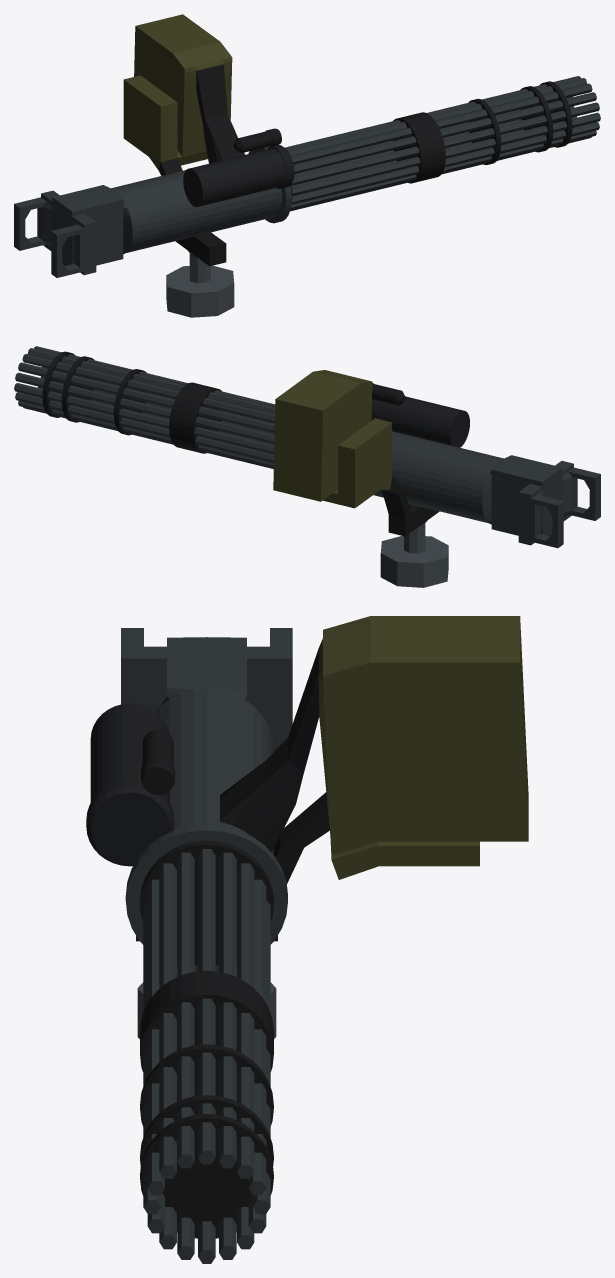
The model's file is SM_Gunmachine_04.fbx.
3 views of the same model, one above another, from view 1: azimuth 30°, elevation 25°; view 2: azimuth 150°, elevation 25°; view 3: azimuth 270°, elevation 25° (orthographic). The views are drawn at different scales.
Visible parts, largest first — view 1: SM_Gunmachine_04, SM_Gunmachine_04_Fire; view 2: SM_Gunmachine_04, SM_Gunmachine_04_Fire; view 3: SM_Gunmachine_04, SM_Gunmachine_04_Fire.
Part boxes in pixels (x1=…): SM_Gunmachine_04: x1=14, y1=14, x2=294, y2=317; SM_Gunmachine_04_Fire: x1=285, y1=76, x2=600, y2=211; SM_Gunmachine_04: x1=273, y1=370, x2=600, y2=587; SM_Gunmachine_04_Fire: x1=14, y1=346, x2=275, y2=468; SM_Gunmachine_04: x1=86, y1=616, x2=528, y2=1038; SM_Gunmachine_04_Fire: x1=140, y1=840, x2=273, y2=1263.
Bounding box in the file's own units: 104 × 39.37 × 36.38.
